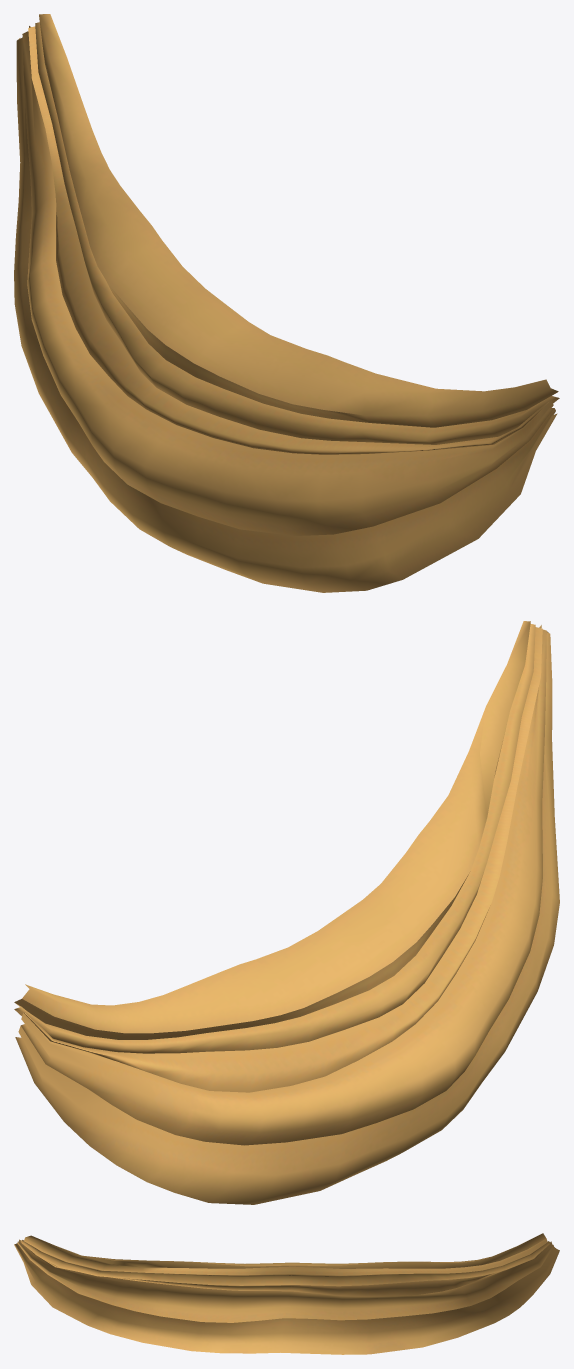
The model's file is CurtainHorizontal.fbx.
3 renders of one model, top to bottom at view 1: azimuth 30°, elevation 25°; view 2: azimuth 150°, elevation 25°; view 3: azimuth 270°, elevation 25°, orthographic. The views are drawn at different scales.
Visible parts, largest first — view 1: CurtainHorizontal; view 2: CurtainHorizontal; view 3: CurtainHorizontal.
Boxes of the visible parts, bbox=[...] form: CurtainHorizontal: bbox=[14, 14, 559, 592]; CurtainHorizontal: bbox=[14, 621, 559, 1204]; CurtainHorizontal: bbox=[14, 1233, 559, 1354].
Bounding box in the file's own units: 4.32 × 6.64 × 21.24.
